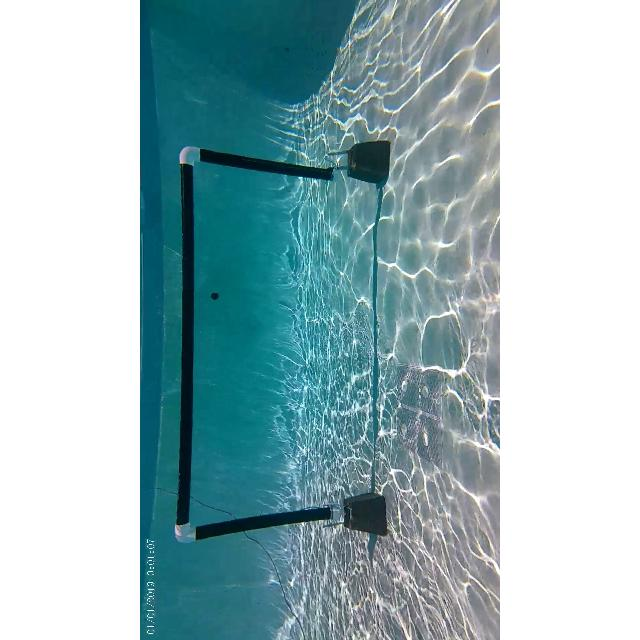prequal gate: (174, 144, 342, 544)
prequal gate leg l: (172, 502, 352, 544)
prequal gate leg r: (177, 138, 351, 192)
